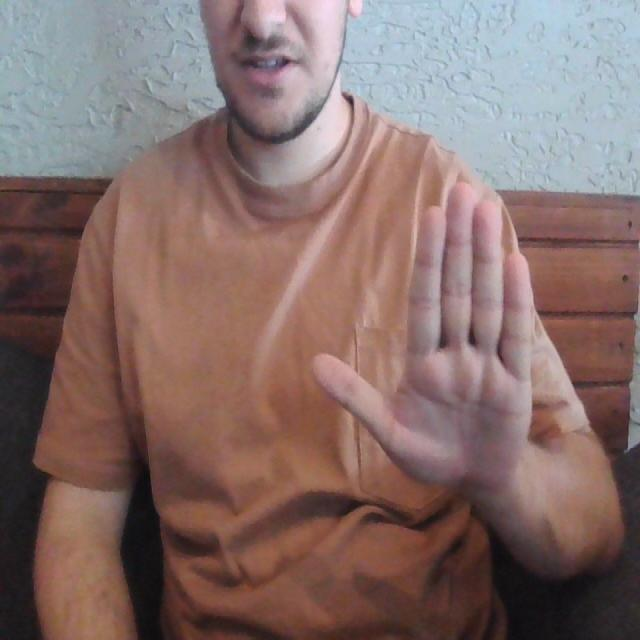Dur: (298, 167, 541, 525)
